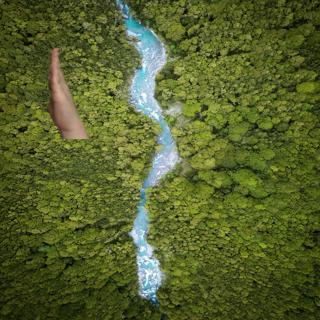RIGHT: (42, 41, 83, 131)
